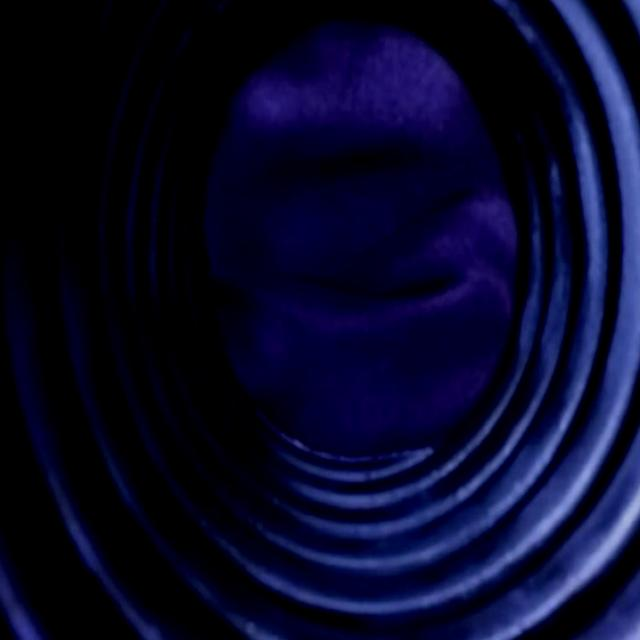block: (209, 32, 525, 460)
